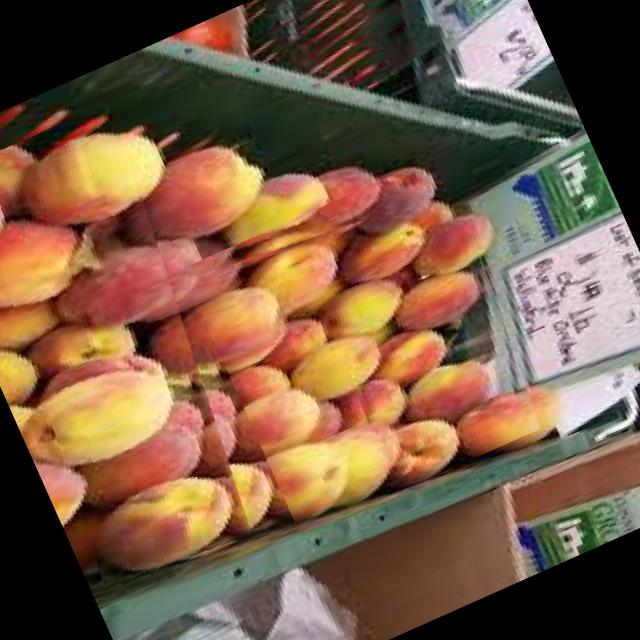Organic: (0, 101, 294, 603), (200, 195, 558, 536), (187, 164, 434, 300), (172, 115, 328, 251)
